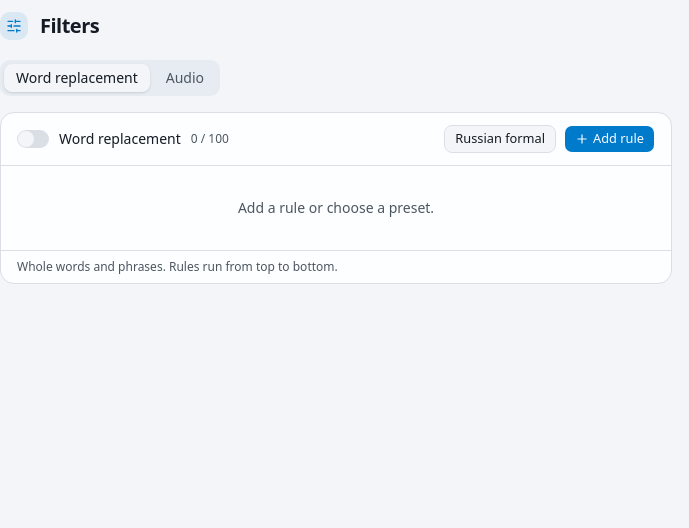
compact replacement editor › waits for an owned cleanup stop before starting a sample in the reopened tab
Press the mouse on the tab "Audio" at (185, 78), box [154,64,216,92]
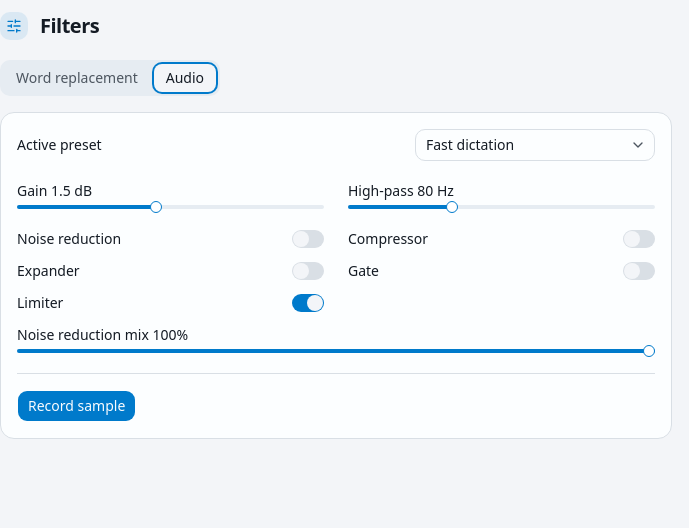
Click the button "Record sample" at (77, 406), box [17,390,136,422]
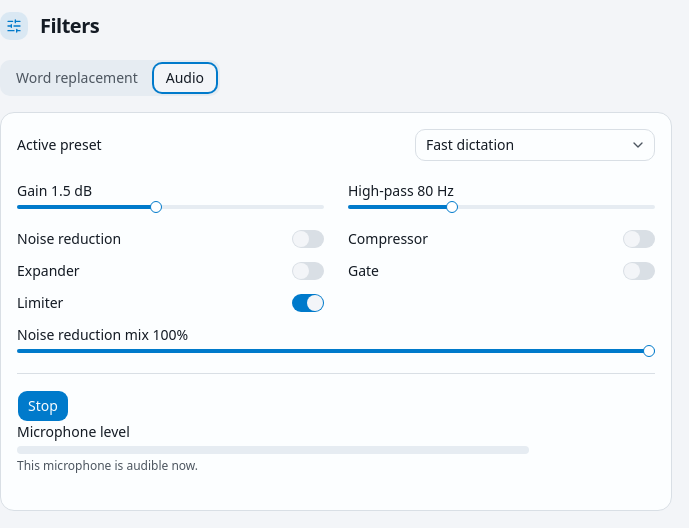
Now the button "Stop" is shown, box [17,390,69,422]
Press the mouse on the tab "Word replacement" at (77, 78), box [4,64,150,92]
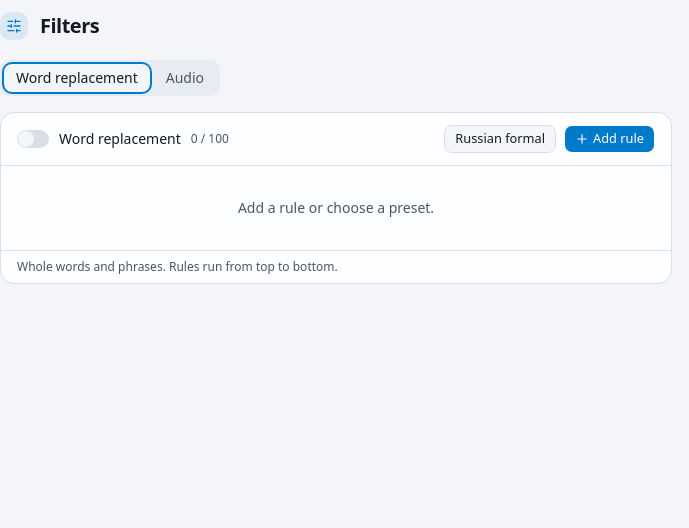
Press the mouse on the tab "Audio" at (185, 78), box [154,64,216,92]
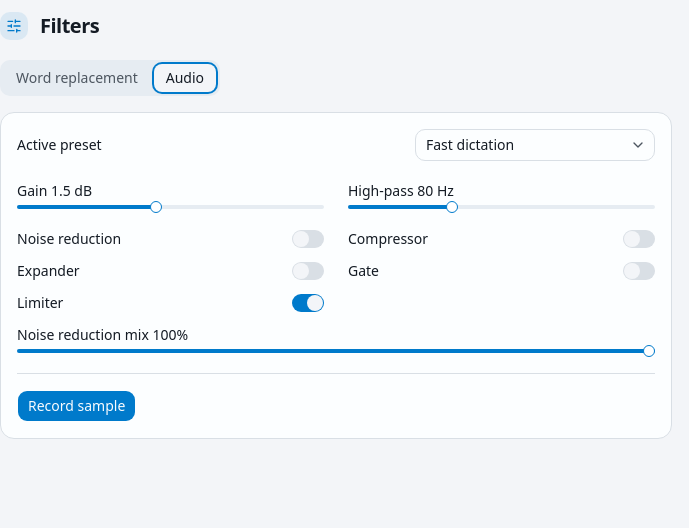
Click the button "Record sample" at (77, 406), box [17,390,136,422]
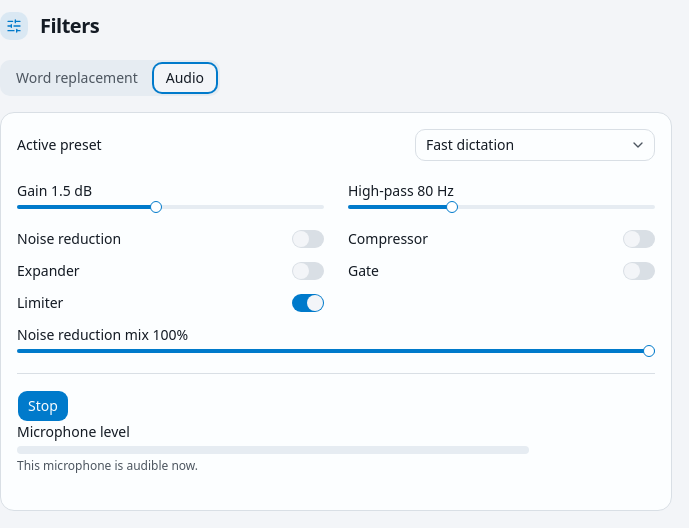
Now the button "Stop" is shown, box [17,390,69,422]
